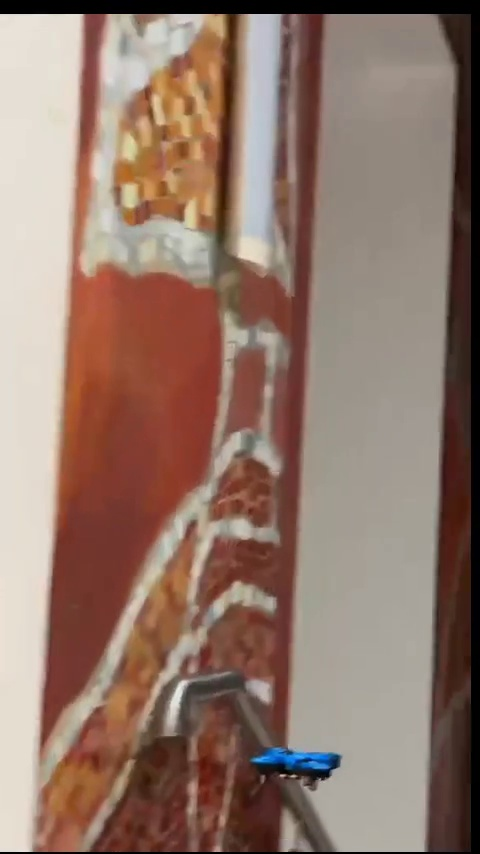drone: (247, 742, 344, 783)
